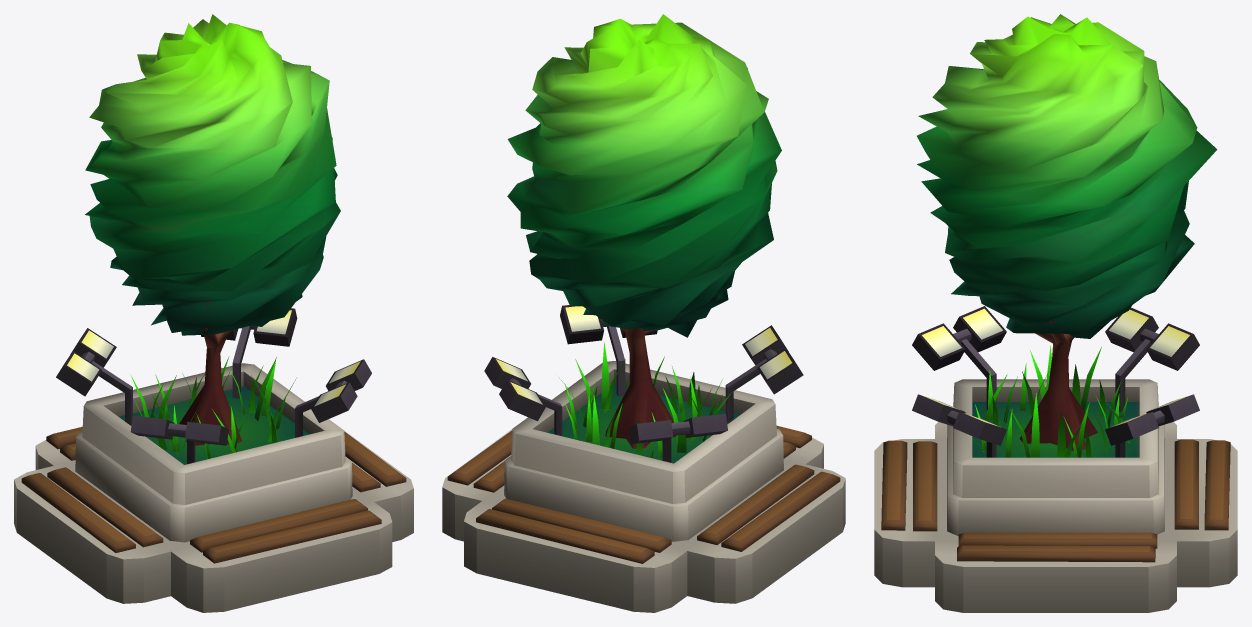
File: Bench_2A.fbx
The picture shows the model from 3 angles, left to right: view 1: azimuth 30°, elevation 25°; view 2: azimuth 150°, elevation 25°; view 3: azimuth 270°, elevation 25°; orthographic projection. The views are drawn at different scales.
Visible parts, largest first — view 1: Bench_2A; view 2: Bench_2A; view 3: Bench_2A.
Boxes of the visible parts, box(x1,y1,x2,y2) form: Bench_2A: box(14, 14, 413, 612); Bench_2A: box(442, 14, 845, 612); Bench_2A: box(874, 14, 1237, 612).
Size of the model in its own units: 152 by 239 by 152.
